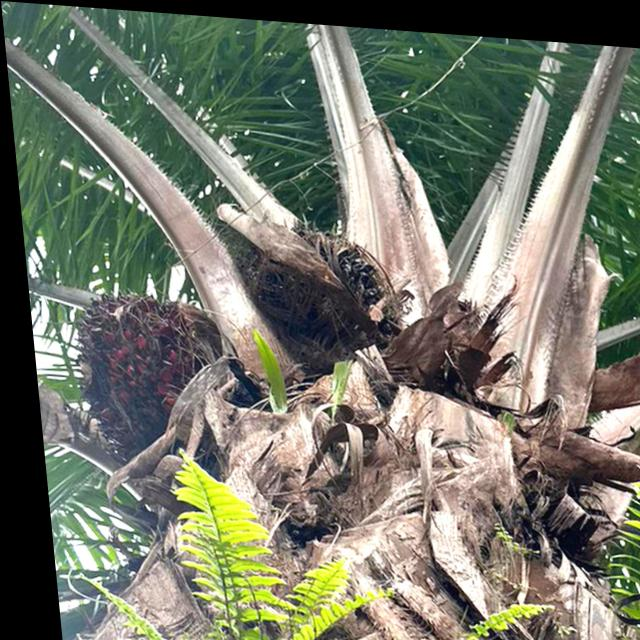unripe: (230, 206, 400, 363)
